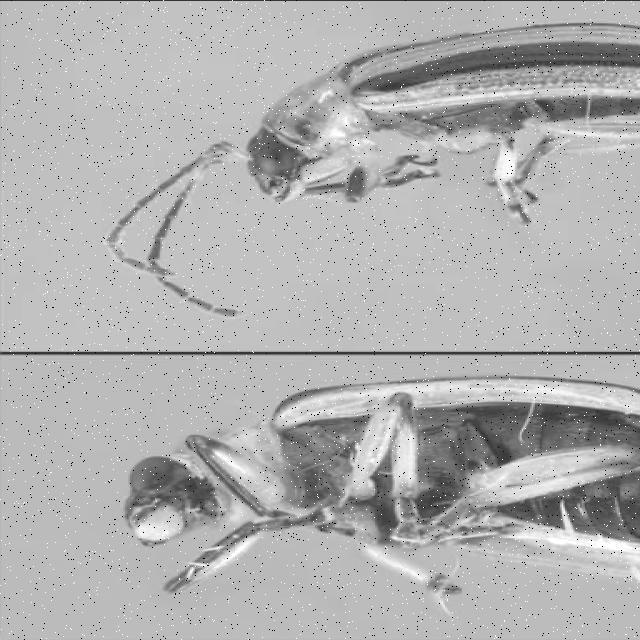trips: (101, 19, 640, 317), (120, 376, 640, 618)
